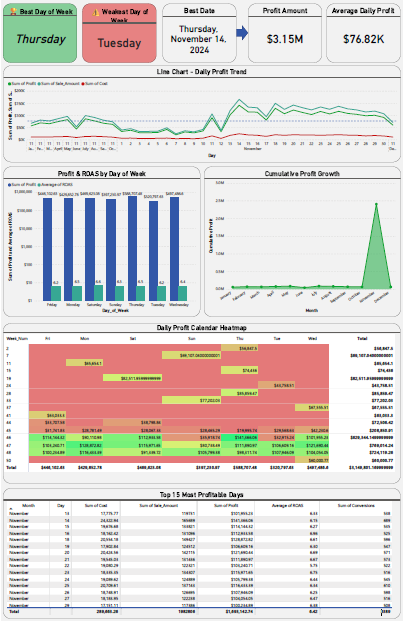

What the dashboard file says about the page in this screenshot:
{"tool":"powerbi","page":{"name":"Page 5 - Temporal Performance","canvas":[1300,2000],"ordinal":4},"visuals":[{"type":"lineChart","title":"Line Chart - Daily Profit Trend","fields":{"Category":["daily_performance.Ad_Date.Variation.Date Hierarchy.Month","daily_performance.Ad_Date.Variation.Date Hierarchy.Day"],"Y":["Sum(daily_performance.Profit)","Sum(daily_performance.Sale_Amount)","Sum(daily_performance.Cost)"]},"box":[5.8,209.1,1278,310.8],"z":0},{"type":"clusteredColumnChart","title":"Profit & ROAS by Day of Week","fields":{"Category":["day_of_week_performance.Day_of_Week"],"Y":["Sum(day_of_week_performance.Profit)","Avg(day_of_week_performance.ROAS)"]},"box":[5.8,534.4,633.2,482.2],"z":1000},{"type":"areaChart","title":"Cumulative Profit Growth","fields":{"Category":["daily_performance.Ad_Date.Variation.Date Hierarchy.Month","daily_performance.Ad_Date.Variation.Date Hierarchy.Day"],"Y":["daily_performance.Cumulative Profit"]},"box":[650.6,534.4,633.2,482.2],"z":2000},{"type":"pivotTable","title":"Daily Profit Calendar Heatmap","fields":{"Rows":["daily_performance.Week_Num"],"Columns":["daily_performance.Day_Name"],"Values":["Sum(daily_performance.Profit)"]},"box":[5,1037.5,1277.5,515],"z":3000},{"type":"tableEx","title":"Top 15 Most Profitable Days","fields":{"Values":["daily_performance.Ad_Date.Variation.Date Hierarchy.Month","daily_performance.Ad_Date.Variation.Date Hierarchy.Day","Sum(daily_performance.Cost)","Sum(daily_performance.Sale_Amount)","Sum(daily_performance.Profit)","Avg(daily_performance.ROAS)","Sum(daily_performance.Conversions)"]},"box":[5,1567.5,1277.5,420],"z":4000},{"type":"card","title":"🏆 Best Day of Week","fields":{"Values":["day_of_week_performance.Best Day of Week"]},"box":[5,10,237.5,190],"z":5000},{"type":"card","title":"⚠️ Weakest Day of Week","fields":{"Values":["day_of_week_performance.Worst Day of Week"]},"box":[260,10,237.5,190],"z":6000},{"type":"card","title":"Best Date","fields":{"Values":["Min(daily_performance.Ad_Date)"]},"box":[517.5,10,237.5,190],"z":7000},{"type":"shape","box":[755,80,37.5,47.5],"z":8000},{"type":"card","title":"Profit Amount","fields":{"Values":["Sum(daily_performance.Profit)"]},"box":[792.5,10,237.5,190],"z":9000},{"type":"card","title":"Average Daily Profit","fields":{"Values":["Avg(daily_performance.Profit)"]},"box":[1045,10,237.5,190],"z":10000}]}

Visuals, with their boxes in screenshot pixels (x1, y1, x2, y2), scaled from the page's 1300x2000 canvas onto the 403x621 screenshot:
"Line Chart - Daily Profit Trend" lineChart: 2, 65, 398, 161
"Profit & ROAS by Day of Week" clusteredColumnChart: 2, 166, 198, 316
"Cumulative Profit Growth" areaChart: 202, 166, 398, 316
"Daily Profit Calendar Heatmap" pivotTable: 2, 322, 398, 482
"Top 15 Most Profitable Days" tableEx: 2, 487, 398, 617
"🏆 Best Day of Week" card: 2, 3, 75, 62
"⚠️ Weakest Day of Week" card: 81, 3, 154, 62
"Best Date" card: 160, 3, 234, 62
shape: 234, 25, 246, 40
"Profit Amount" card: 246, 3, 319, 62
"Average Daily Profit" card: 324, 3, 398, 62
